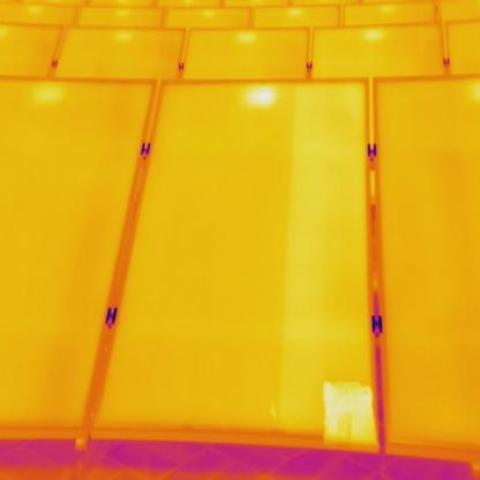fault: (325, 382, 367, 438), (242, 86, 283, 110)
